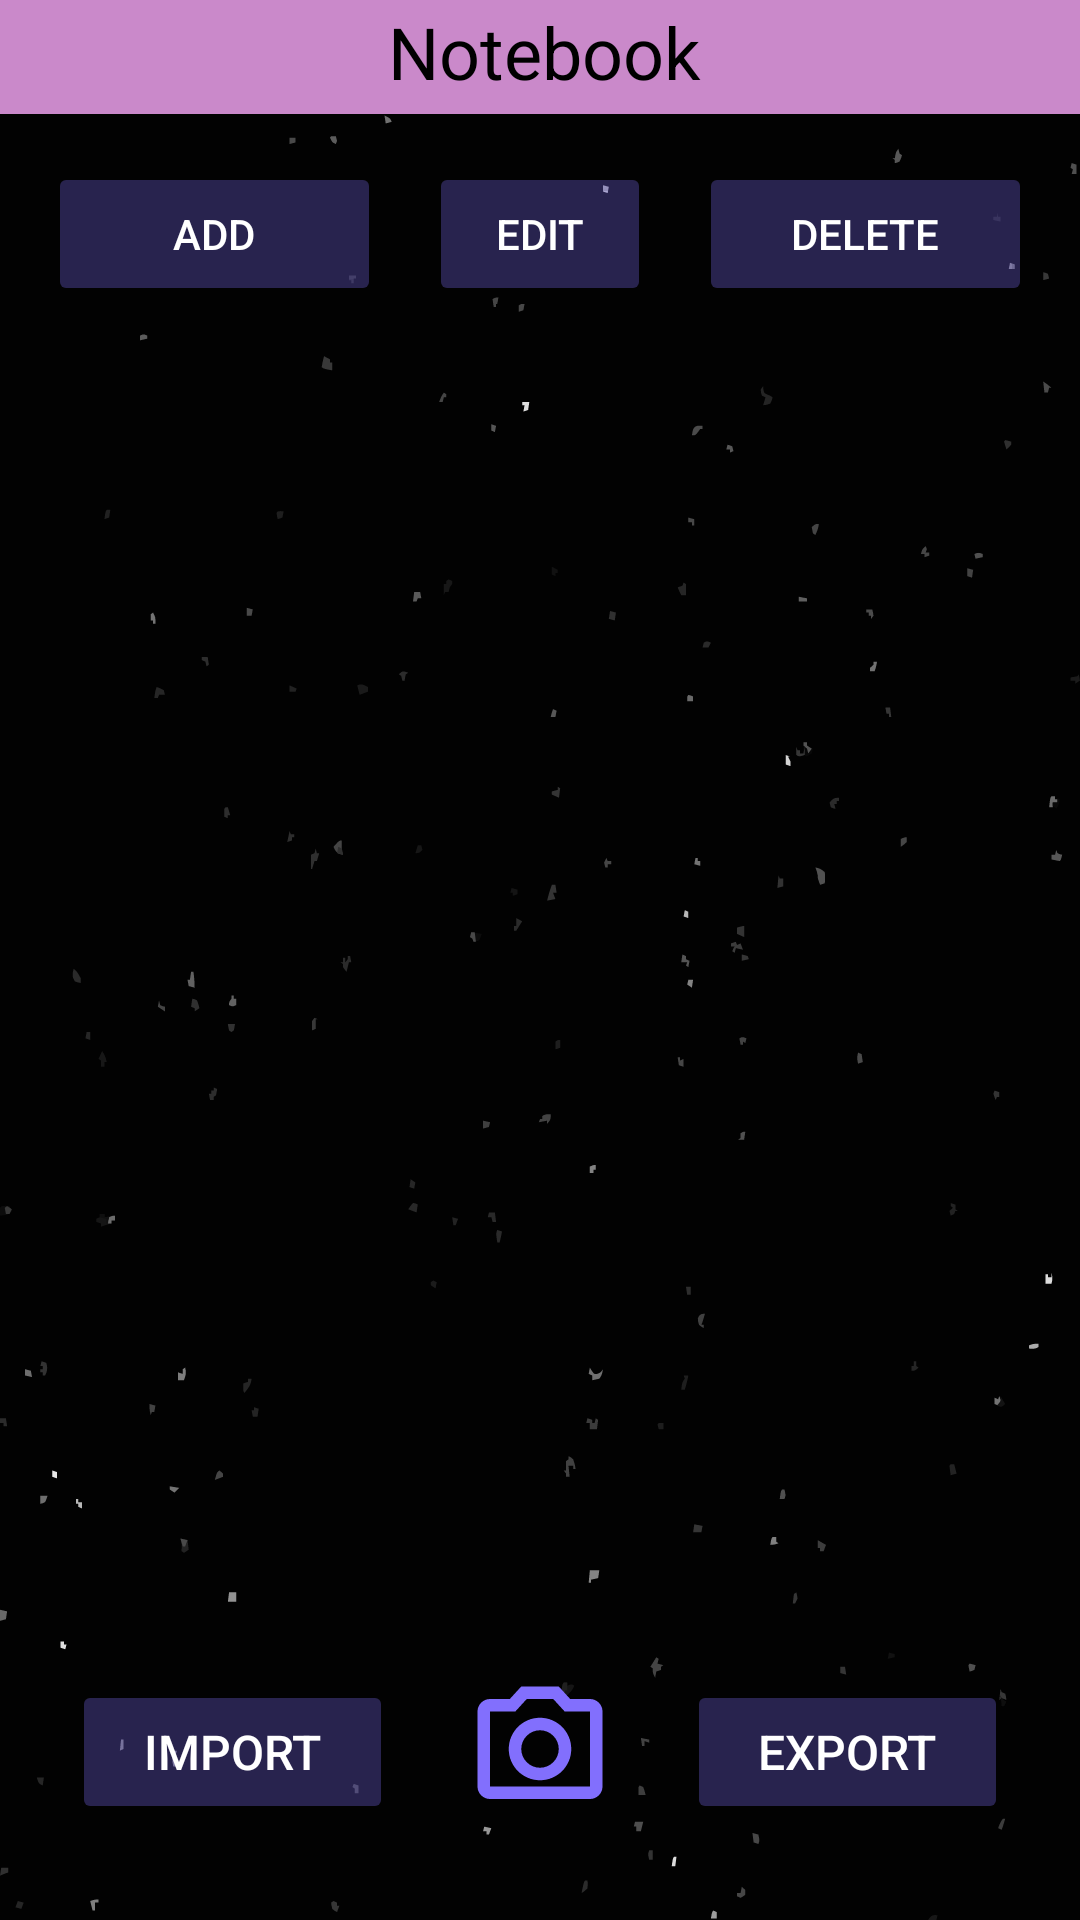

Named icons in this screenshot (1080×1920) and their bounding boxes, (x1, y1, x2, y2):
photo camera: (477, 1683, 603, 1799)
